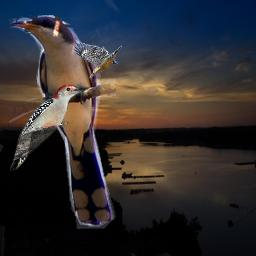Cuckoo: (9, 15, 116, 229)
Woodpecker: (10, 84, 90, 171), (72, 42, 122, 79)
